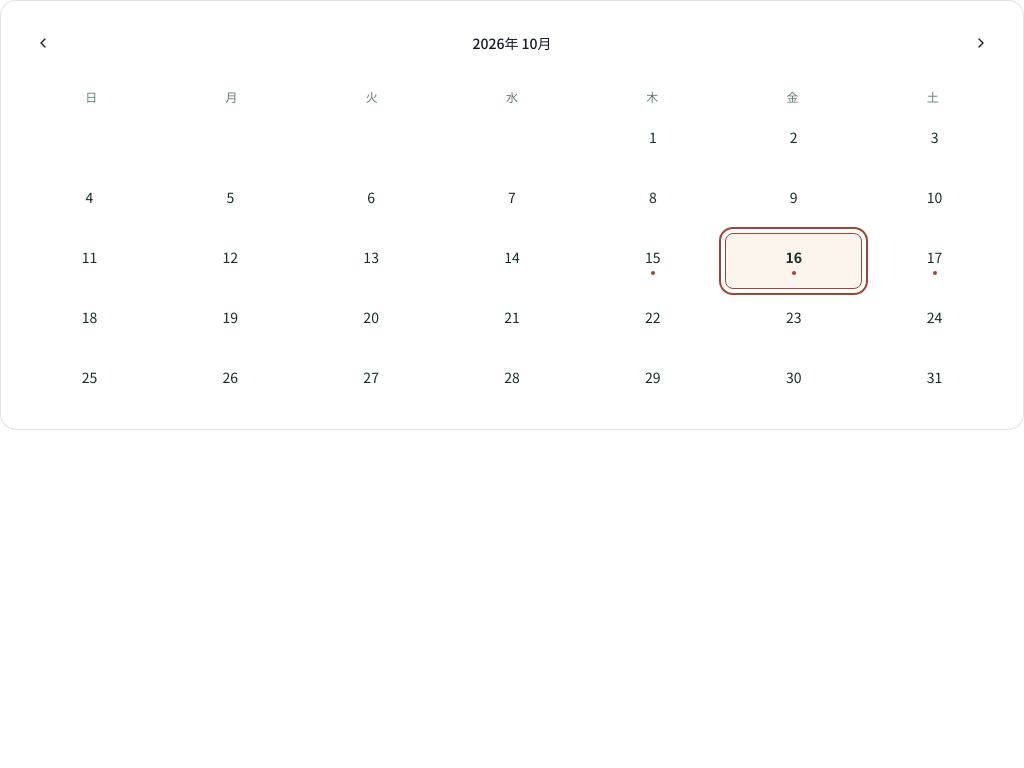
Test case: イベントカレンダー › 日付をキーボードで選ぶと複数日にまたがる予定を直下に表示し、月移動で選択を解除する
The width and height of the screenshot is (1024, 768).
Press Enter
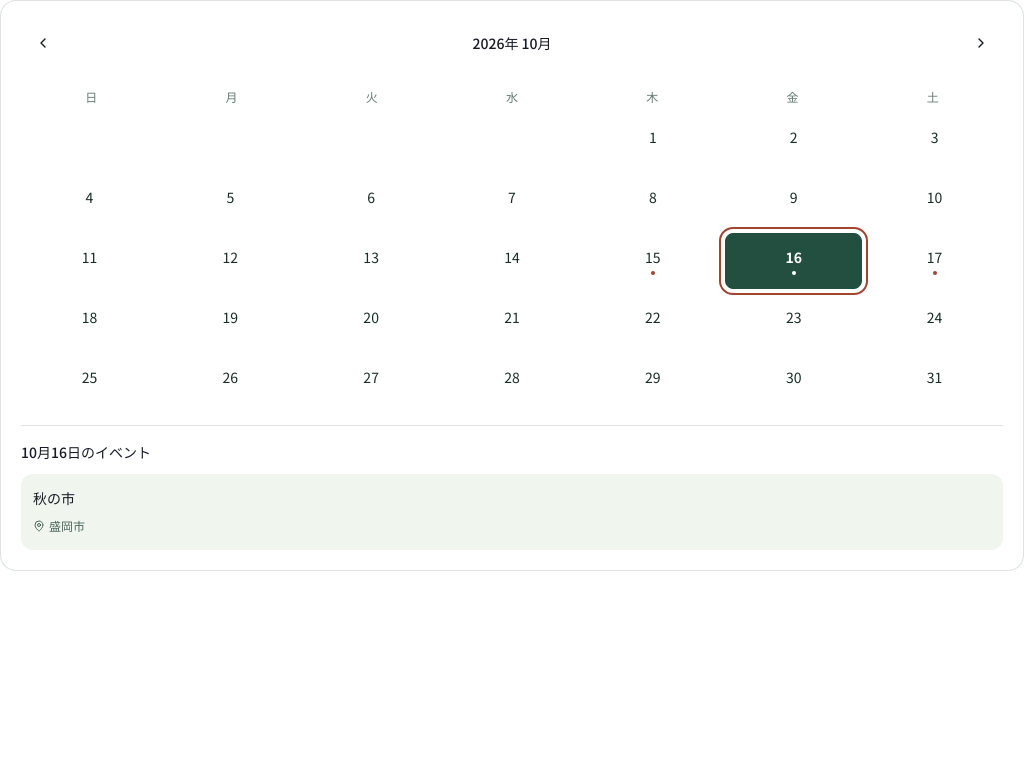
Expected: the text "秋の市" is shown, [33,488,75,508]
Click the button named "次の月" at (981,43), box [959,21,1003,65]
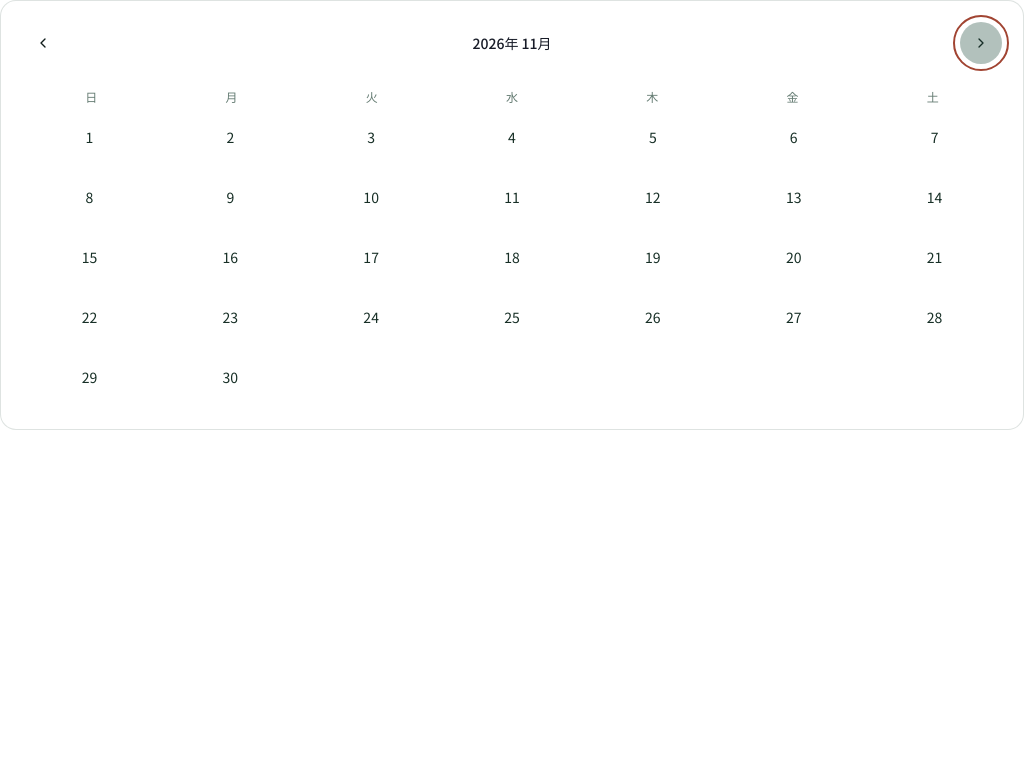
Expected: the text "秋の市" is gone
Click the button named "2026年11月1日、イベント0件" at (89,141), box [21,113,158,169]
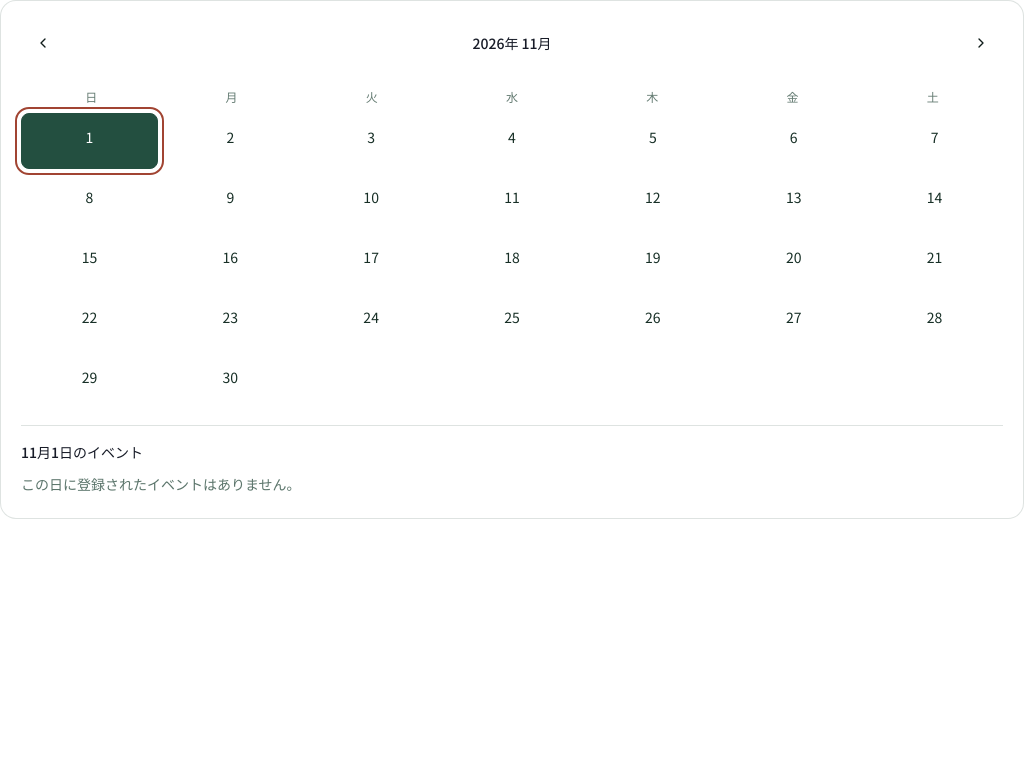
Expected: the text "この日に登録されたイベントはありません。" is shown, [21,474,301,494]
